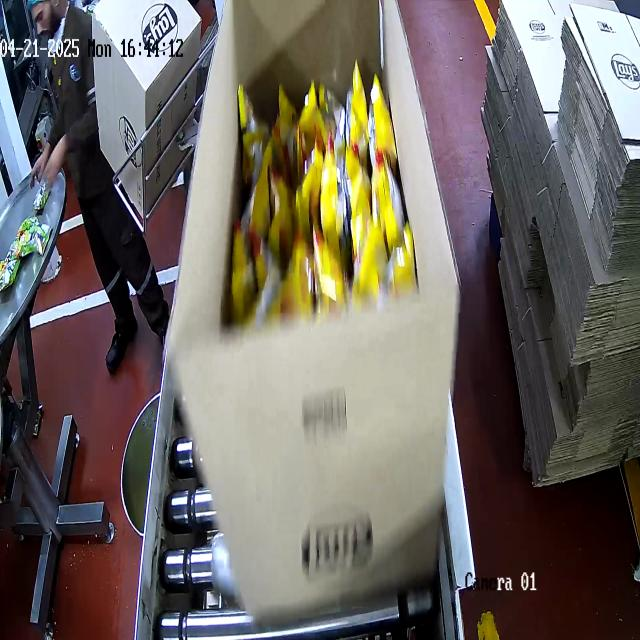SALTED: (226, 62, 423, 292)
